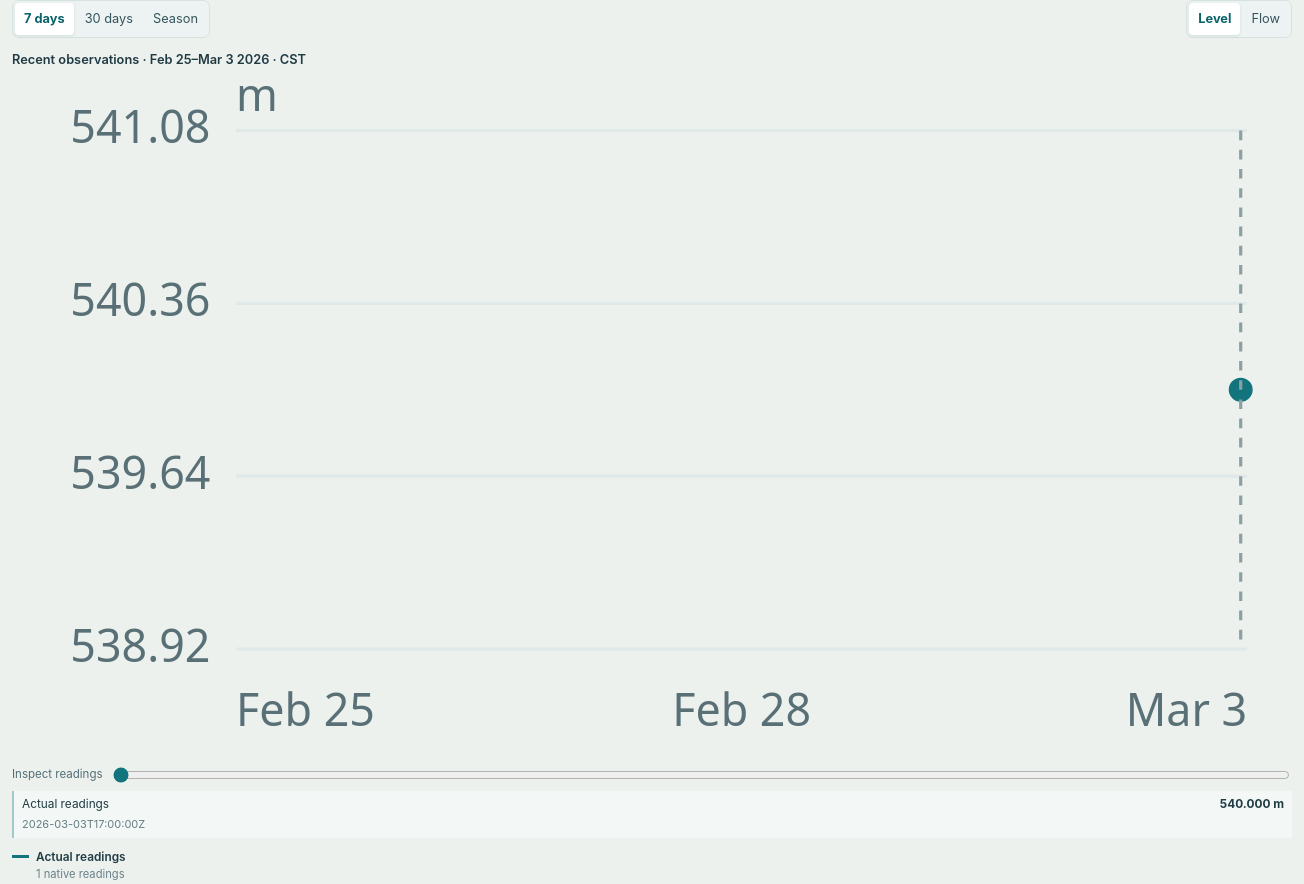
Test case: switches metric units without mixing axes and keeps comparison coverage explicit
Step 1. Click the button "Flow" → x=1266, y=19, box [1242,3,1289,35]
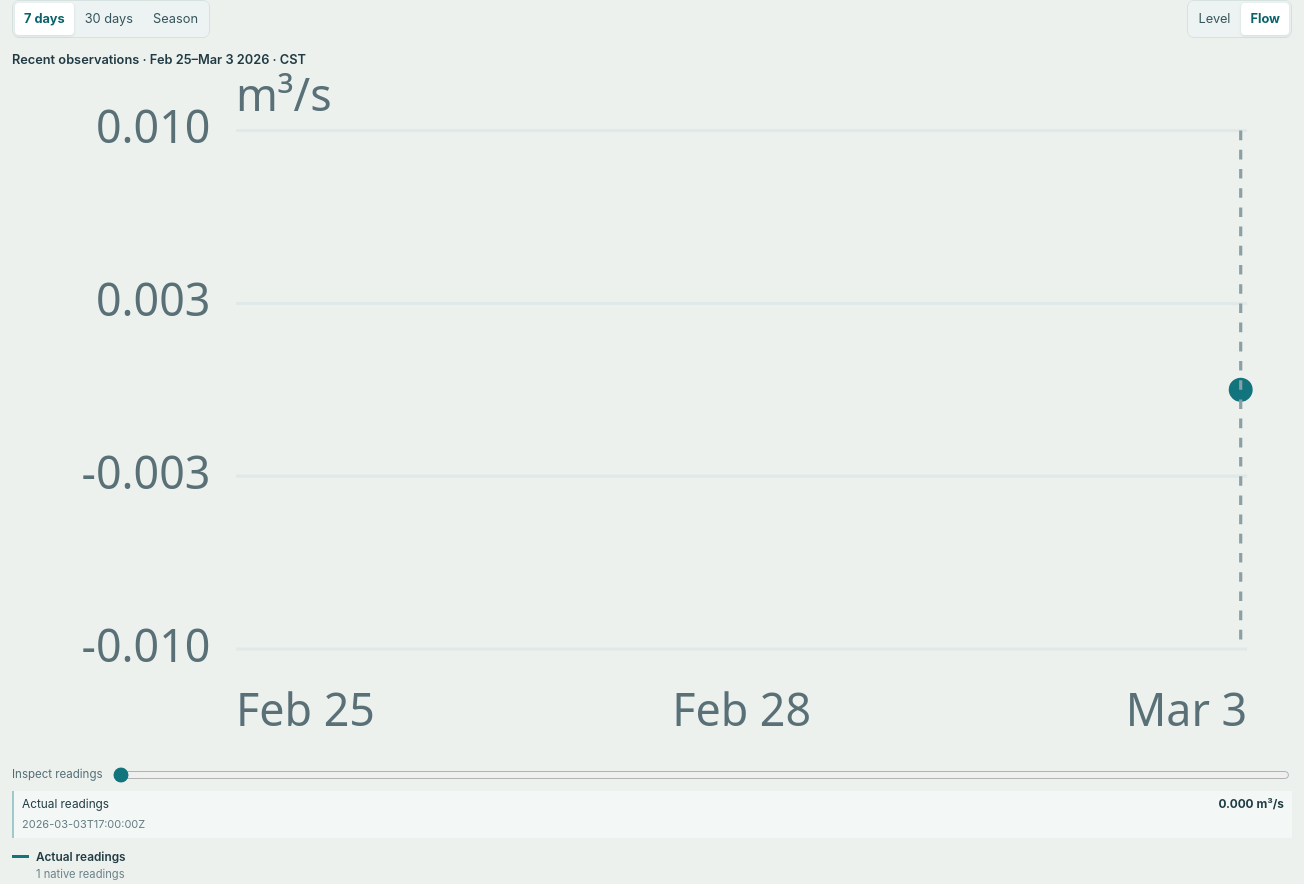
Step 2. Click the button "30 days" → x=109, y=19, box [76,3,142,35]
(page scrolled)
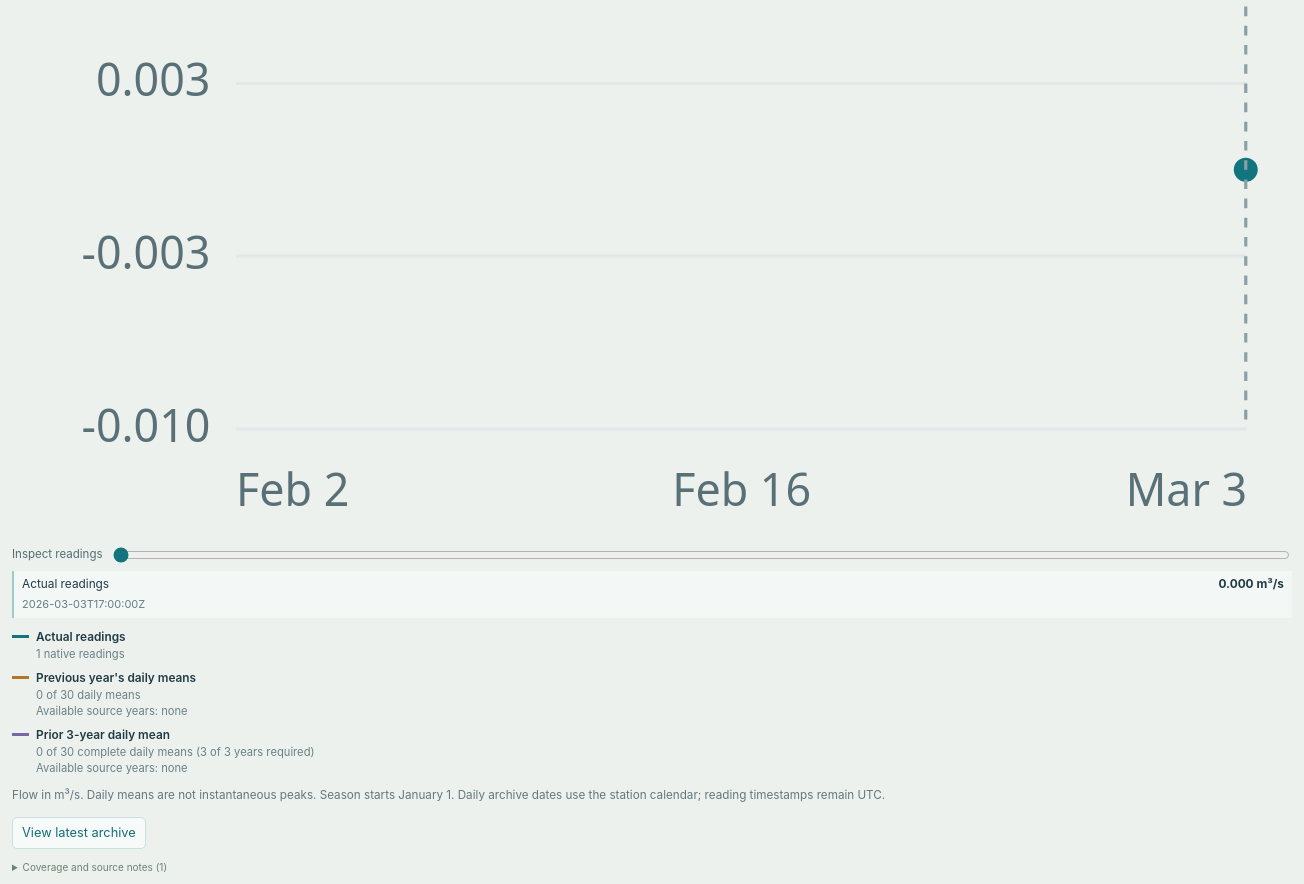
Result: the text "0 of 30 complete daily means (3 of 3 years required)" is shown at [36,744,315,760]
